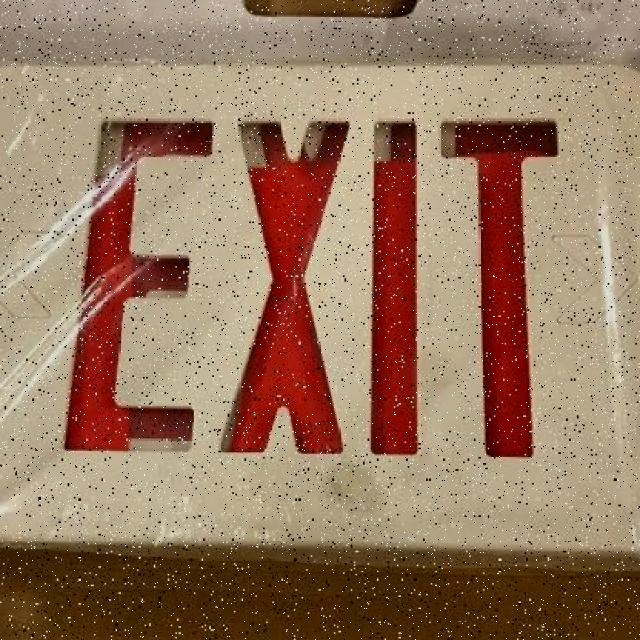emergency_exit: (2, 53, 638, 556), (61, 112, 562, 462), (63, 118, 214, 452), (440, 118, 559, 458)
